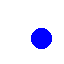circle: (31, 28, 51, 48)
